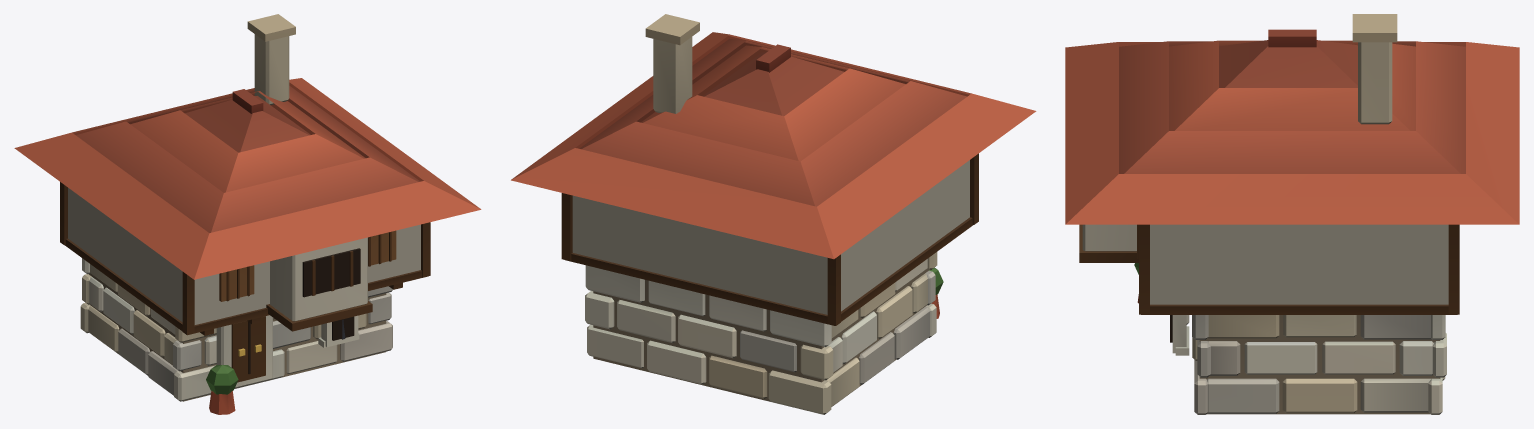
Rendered from city_house_0.glb.
3 renders of one model, left to right at view 1: azimuth 30°, elevation 25°; view 2: azimuth 150°, elevation 25°; view 3: azimuth 270°, elevation 25°, orthographic. The views are drawn at different scales.
Parts seen in each view (by area): view 1: city_house_0; view 2: city_house_0; view 3: city_house_0.
Part boxes in pixels (x1,y1,x2,y2): city_house_0: (14, 14, 481, 414); city_house_0: (511, 14, 1036, 414); city_house_0: (1065, 14, 1519, 414).
Bounding box in the file's own units: 0.609 × 0.5825 × 0.6597.
